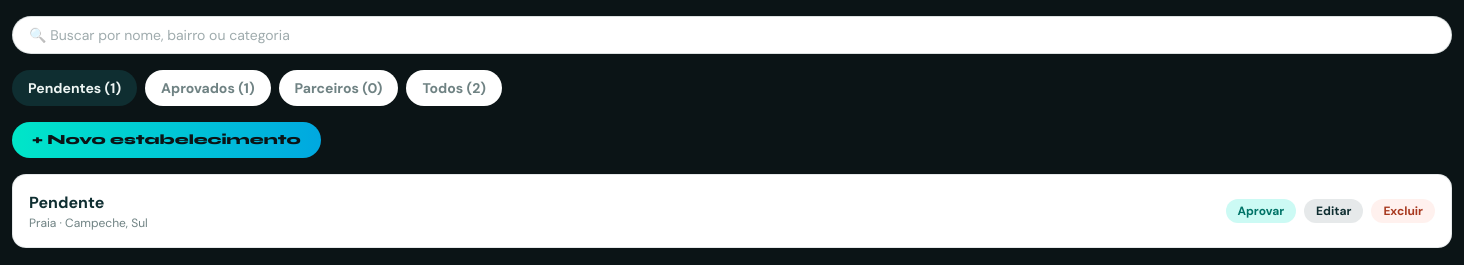
Test: PlacesTabs › switches tabs on click
Step 1. Click the button "Aprovados (1)" → [208, 88], box [145,70,271,106]
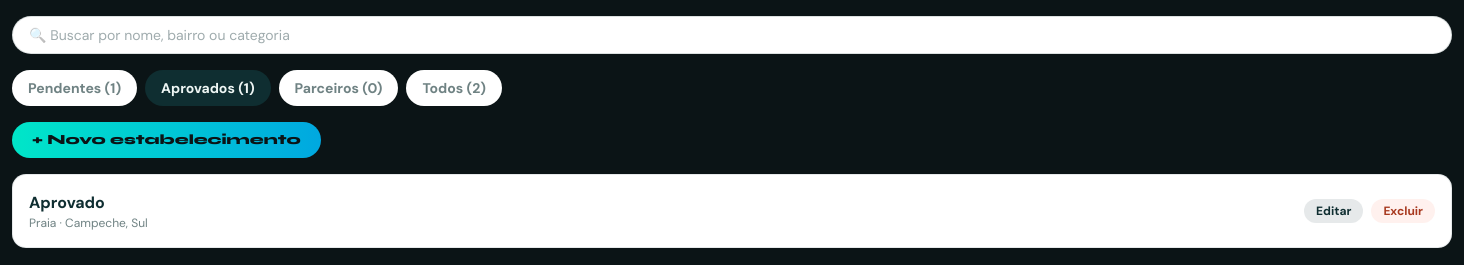
Check: the text "Aprovado" is shown, box [29,192,105,213]
